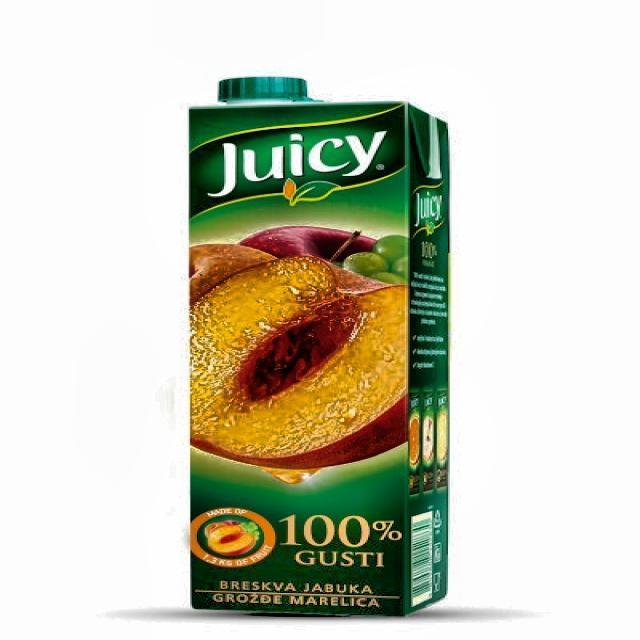cardboard: (186, 79, 452, 616)
